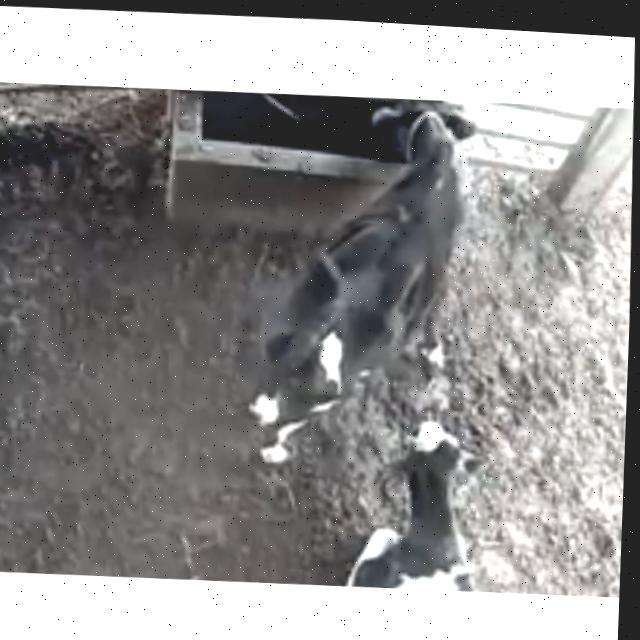drink: (348, 94, 477, 188)
